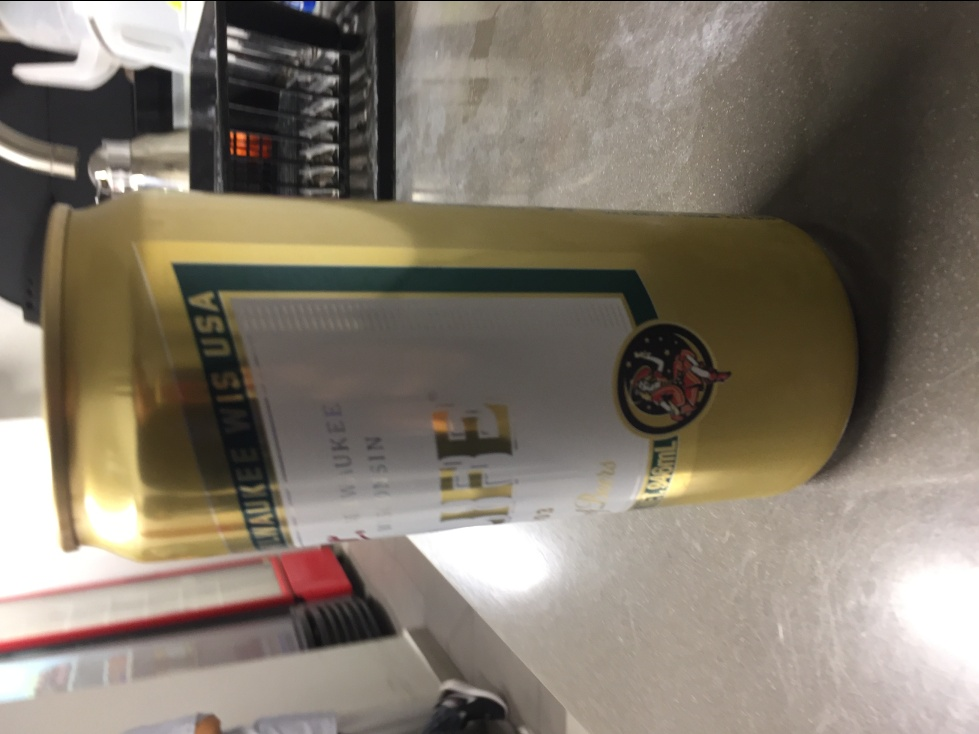miller: (36, 188, 862, 566)
